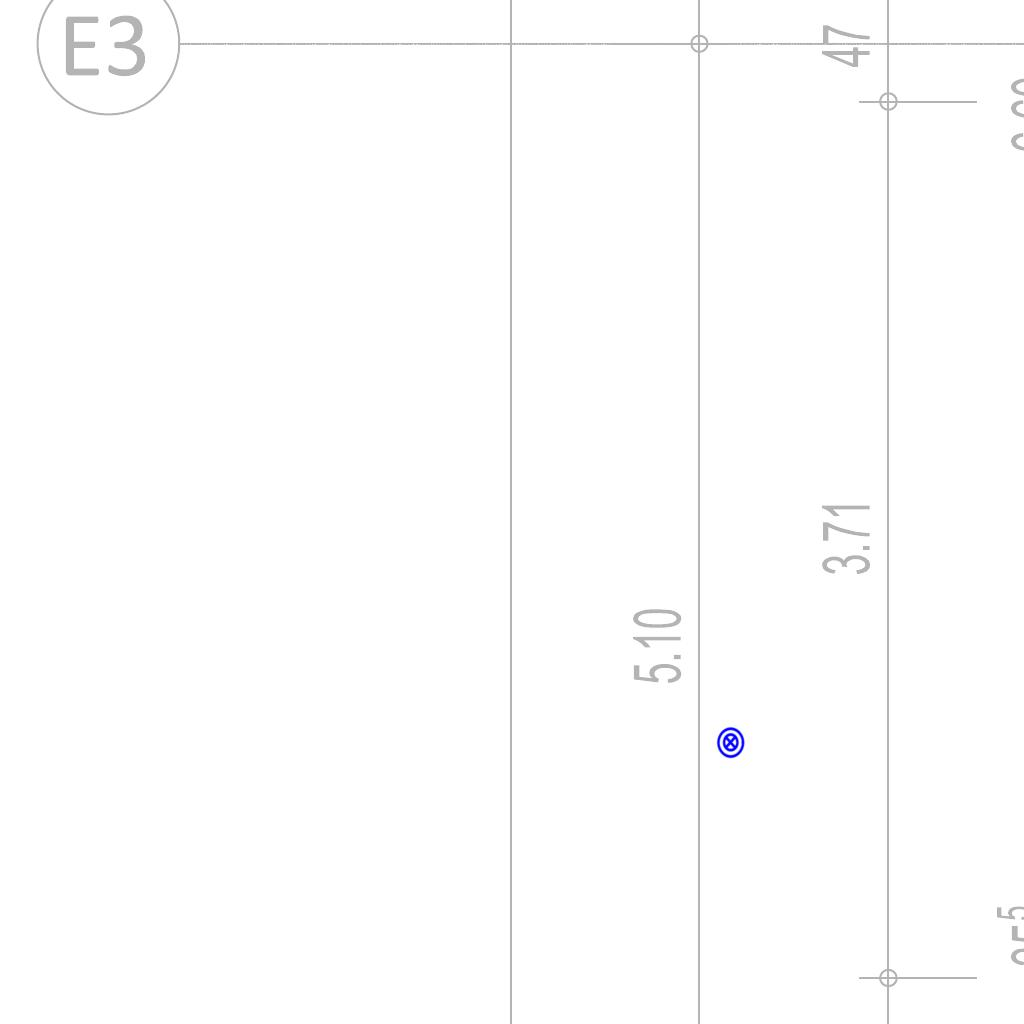Taster_beleuchtet: (714, 726, 747, 759)
